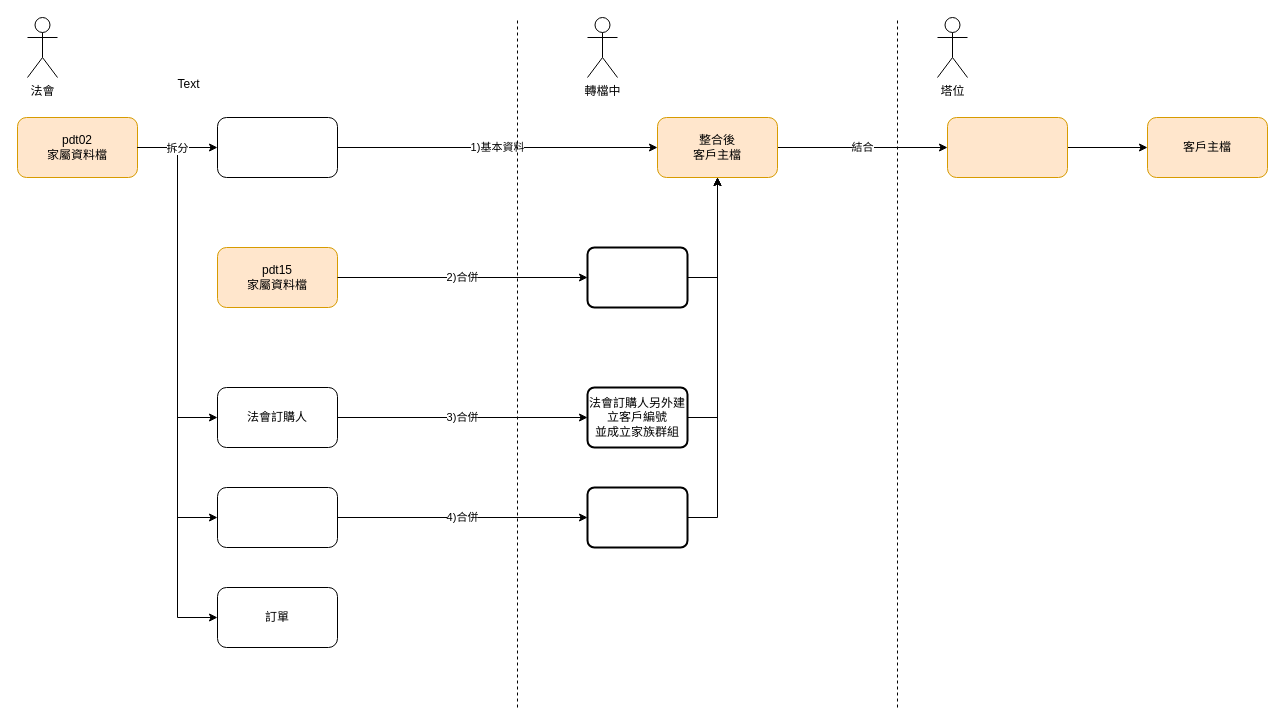
Some shapes in this 1285 by 726 pixel diagram are drawn without their labels. Each missing label, with the centre of its shape:
jwt15: point (1007, 147)
奉厝訂購人: point (277, 517)
奉厝訂購人另外建立客戶編號 並成立家族群組: point (637, 517)
客戶: point (277, 147)
家屬另外新建客戶編號 成立家庭群組: point (637, 277)
